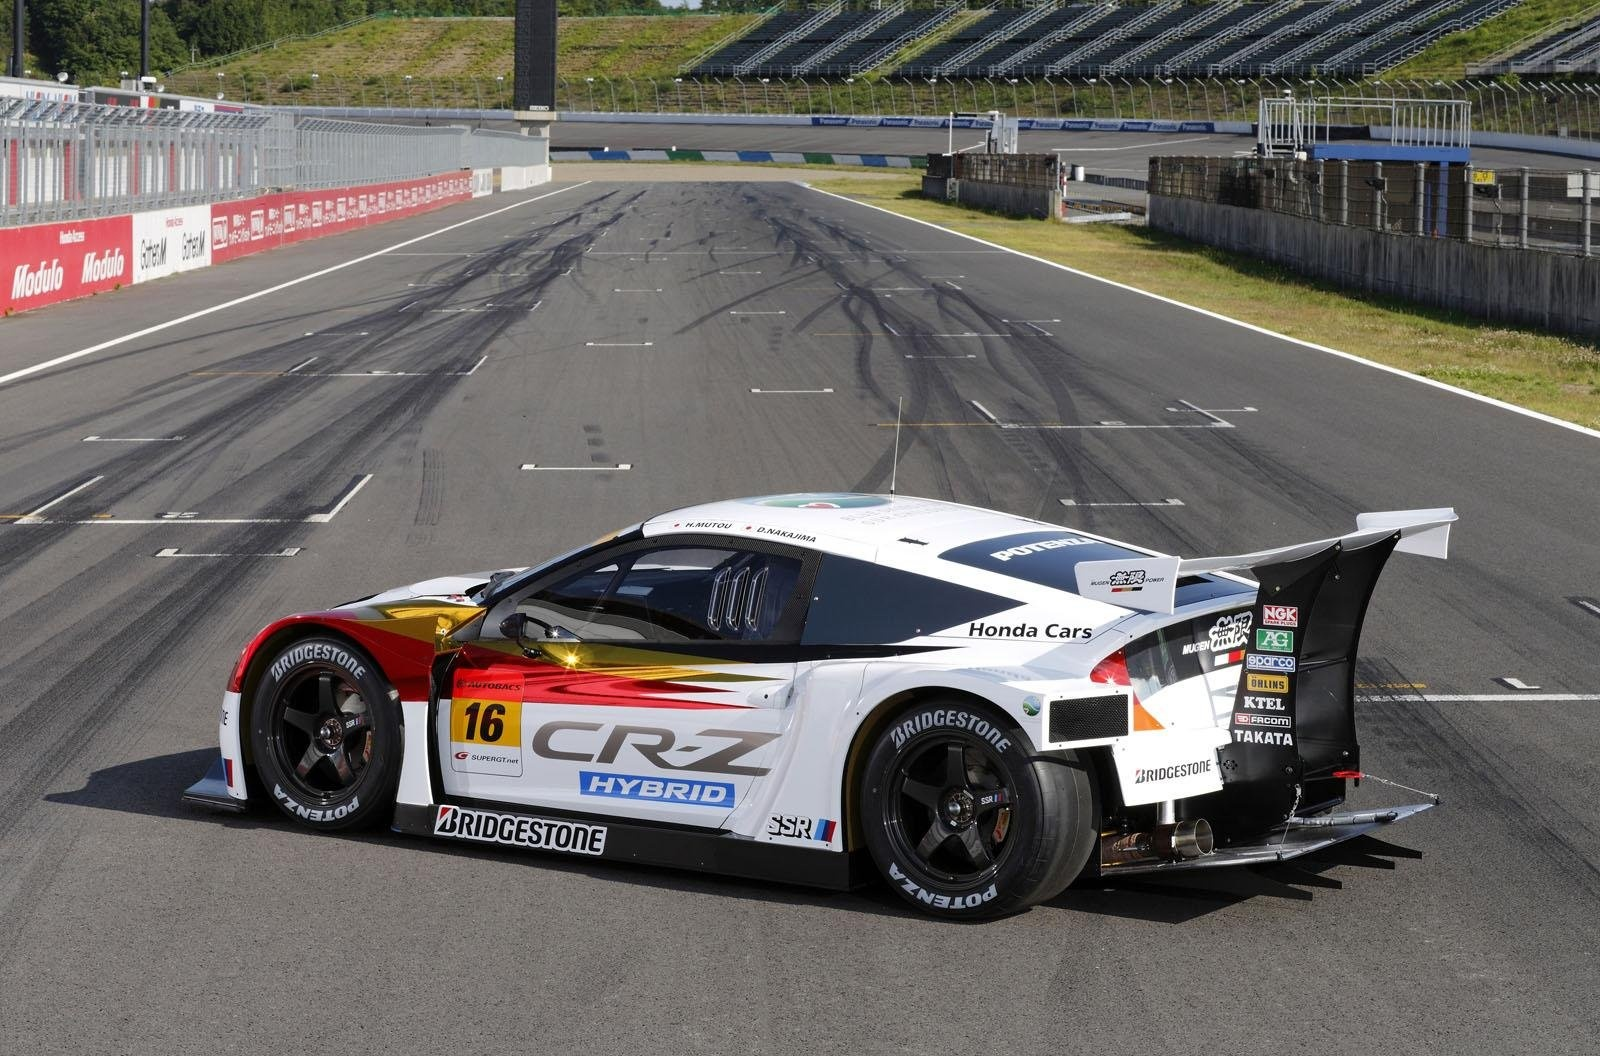racing car: (212, 445, 1449, 937)
